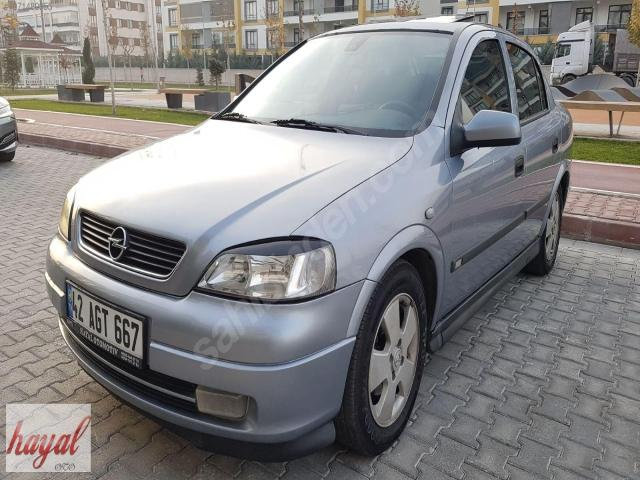plaka: (68, 285, 143, 366)
